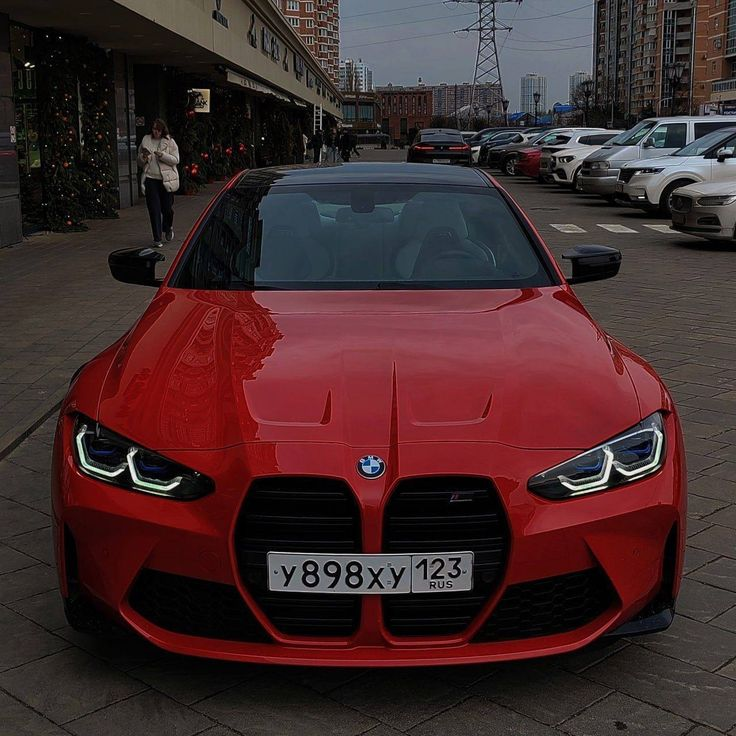plate: (266, 554, 472, 592)
